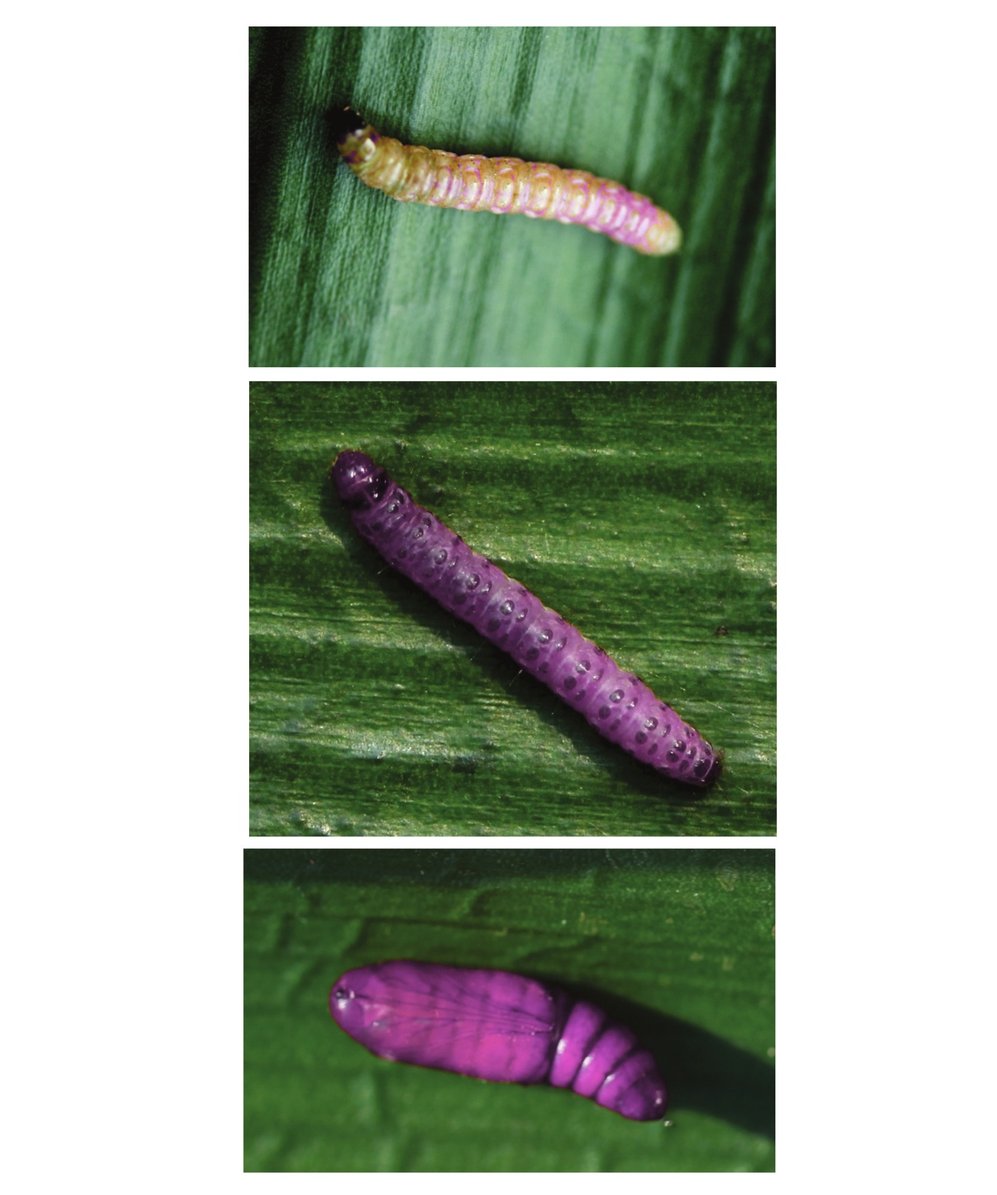Stink_Bug: (53, 282, 986, 581), (163, 544, 717, 711), (820, 69, 983, 265)
